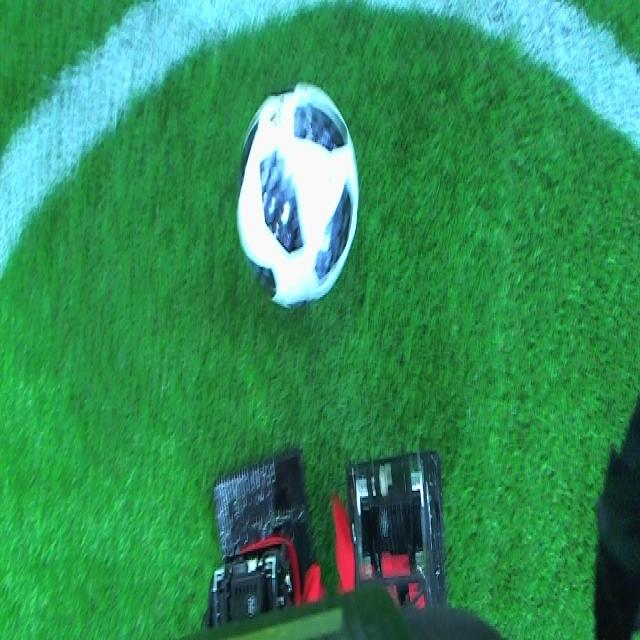ball: (235, 84, 360, 308)
